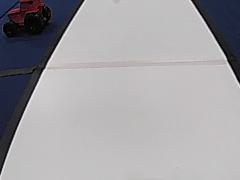Tracktor: (2, 0, 53, 37)
